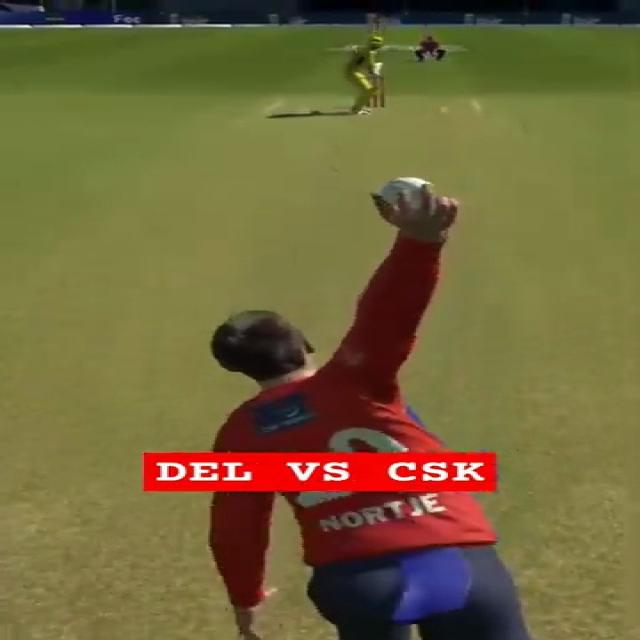ball: (372, 176, 434, 206)
